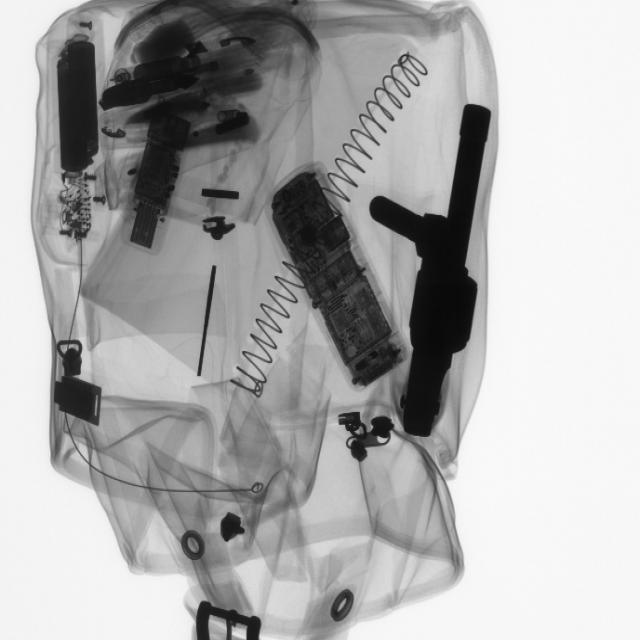GUN: (393, 103, 496, 448)
